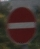No entry: (5, 5, 35, 44)
